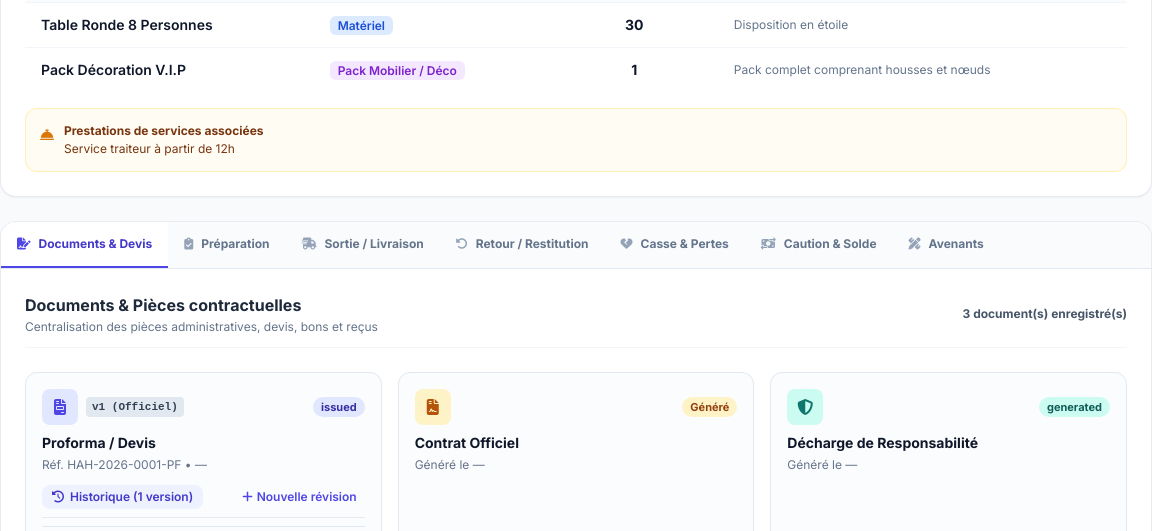
Scenario: HahitantsoaEventDraftDetailPage › requires a signature exception reason before requesting closeout
(page scrolled)
Click the button "Caution & Solde". click: (819, 245)
box: [745,222,892,268]
(page scrolled)
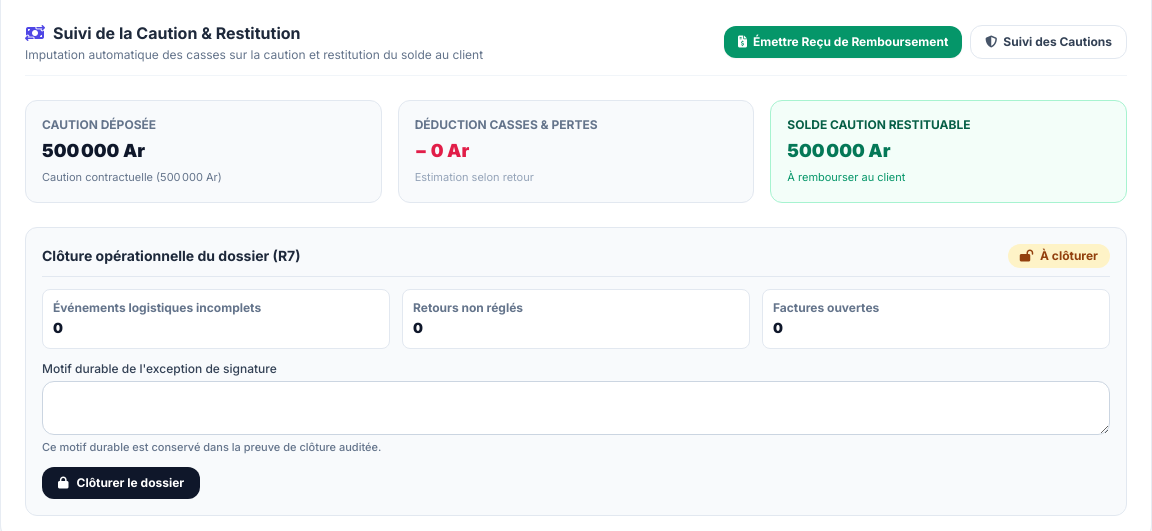
Click the button "Clôturer le dossier". click: (121, 482)
box: [42,466,200,498]
(page scrolled)
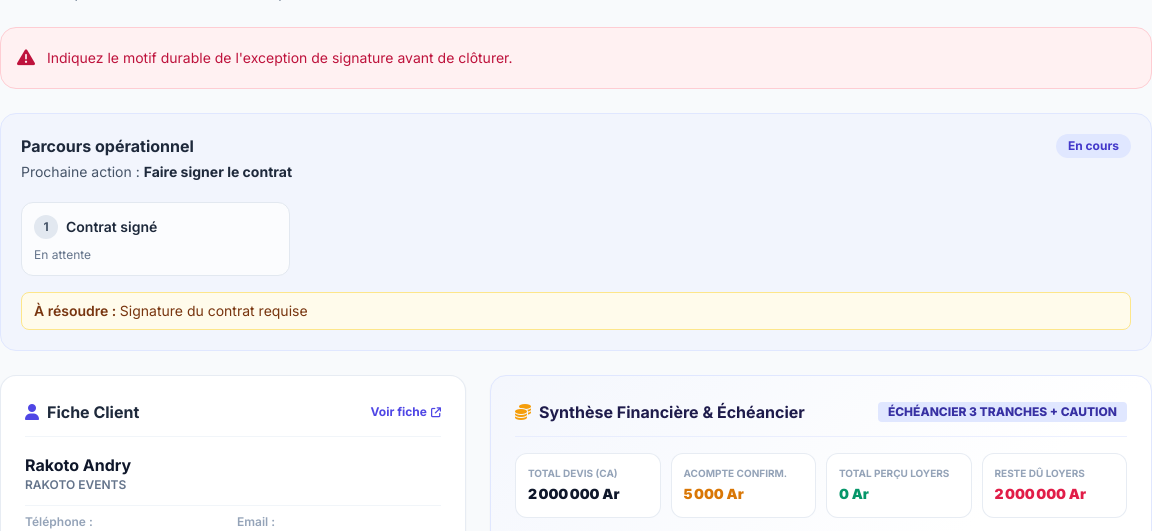
expect the message "Indiquez le motif durable de l'exception de signature avant de clôturer." is shown: met, box [0,27,1151,89]
